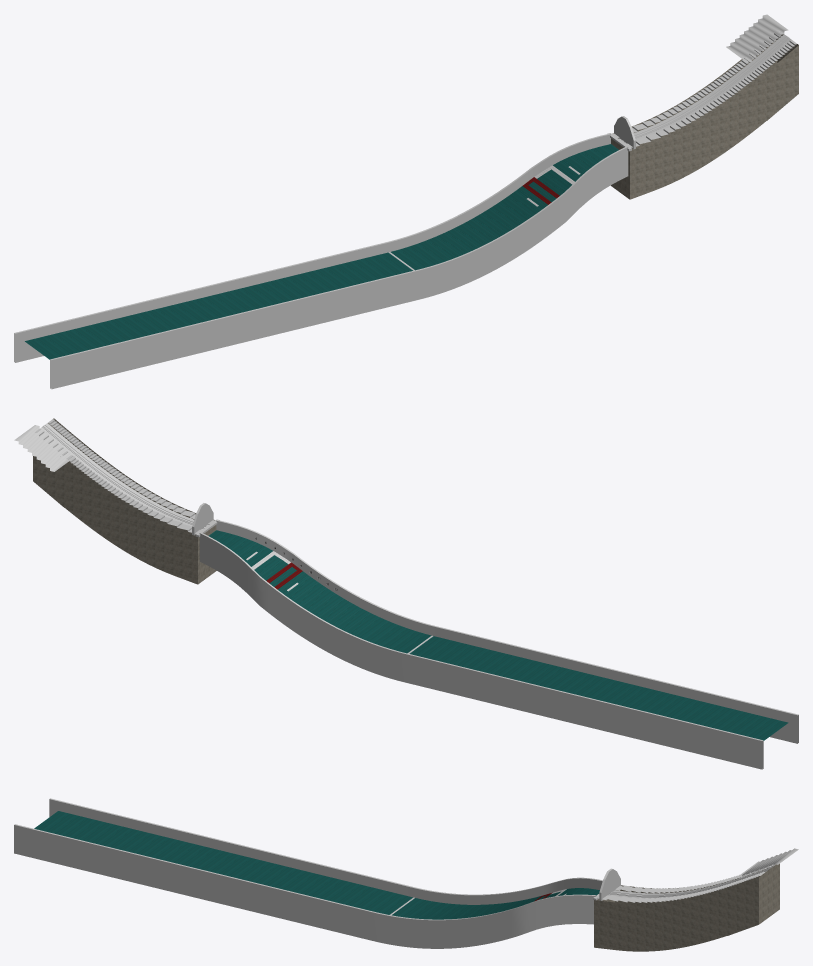
The model's file is Hill (3).fbx.
3 views of the same model, one above another, from view 1: azimuth 30°, elevation 25°; view 2: azimuth 150°, elevation 25°; view 3: azimuth 330°, elevation 25° (orthographic). The views are drawn at different scales.
Parts seen in each view (by area): view 1: Landing_Area_Guardrail_R, Landing_Area, Inrun_Construction, Landing_Area_Guardrail_L, Inrun, Gate_Stairs_L, Inrun_Stairs_L, Inrun_Stairs_R; view 2: Landing_Area_Guardrail_L, Landing_Area, Inrun_Construction, Landing_Area_Guardrail_R, Inrun, Gate_Stairs_L, Inrun_Stairs_L, Inrun_Stairs_R; view 3: Landing_Area_Guardrail_R, Landing_Area, Inrun_Construction, Landing_Area_Guardrail_L, Inrun_Stairs_L, Inrun, Inrun_Stairs_R, gate, Gate_Stairs_L.
Boxes of the visible parts, x1,y1,x2,y2 form: Landing_Area_Guardrail_R: [50, 146, 628, 389]; Landing_Area: [25, 144, 618, 359]; Inrun_Construction: [611, 34, 798, 199]; Landing_Area_Guardrail_L: [14, 133, 610, 362]; Inrun: [619, 34, 791, 143]; Gate_Stairs_L: [726, 14, 788, 62]; Inrun_Stairs_L: [626, 40, 796, 147]; Inrun_Stairs_R: [612, 30, 783, 137]; Landing_Area_Guardrail_L: [199, 532, 763, 769]; Landing_Area: [209, 530, 788, 740]; Inrun_Construction: [33, 418, 216, 584]; Landing_Area_Guardrail_R: [216, 520, 798, 743]; Inrun: [40, 423, 208, 529]; Gate_Stairs_L: [14, 425, 74, 471]; Inrun_Stairs_L: [48, 419, 214, 524]; Inrun_Stairs_R: [35, 429, 201, 533]; Landing_Area_Guardrail_R: [14, 824, 596, 948]; Landing_Area: [34, 811, 599, 919]; Inrun_Construction: [594, 863, 779, 951]; Landing_Area_Guardrail_L: [49, 798, 602, 904]; Inrun_Stairs_L: [598, 871, 764, 902]; Inrun: [608, 867, 772, 898]; Inrun_Stairs_R: [615, 864, 773, 893]; gate: [593, 868, 620, 900]; Gate_Stairs_L: [737, 848, 798, 877].
Bounding box in the file's own units: 8147 × 1610 × 820.
